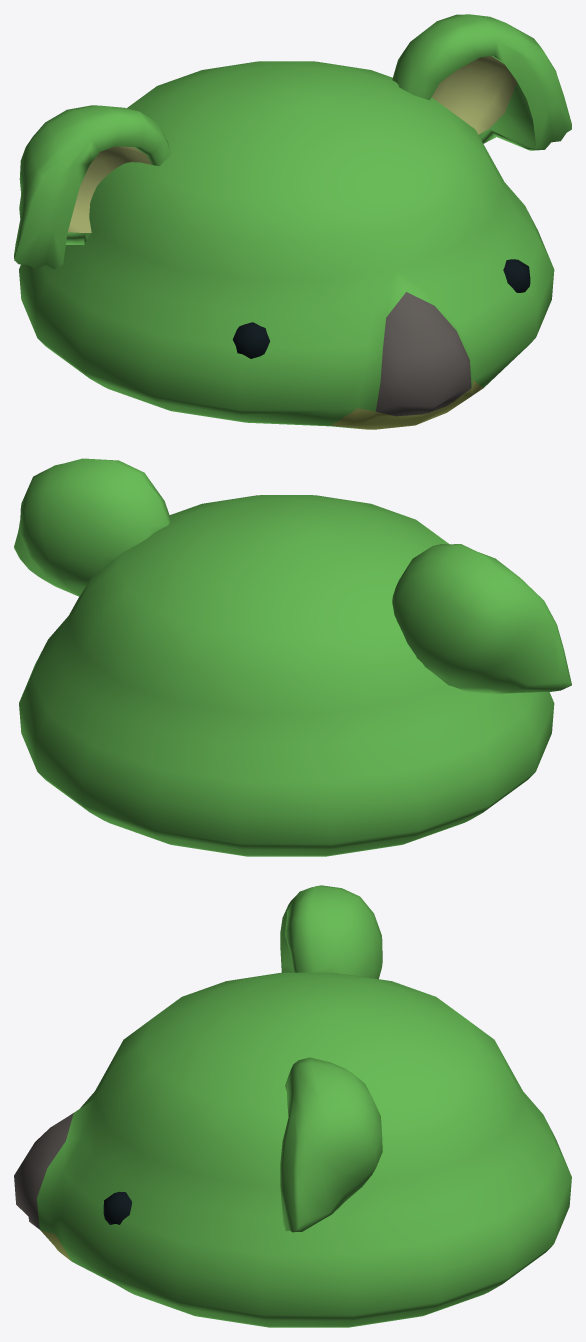
File: Hat_48_02.fbx
The picture shows the model from 3 angles, top to bottom: view 1: azimuth 30°, elevation 25°; view 2: azimuth 150°, elevation 25°; view 3: azimuth 270°, elevation 25°; orthographic projection.
Parts seen in each view (by area): view 1: Hat_48_02; view 2: Hat_48_02; view 3: Hat_48_02.
Boxes of the visible parts, x1,y1,x2,y2 form: Hat_48_02: [14, 14, 571, 429]; Hat_48_02: [14, 458, 571, 856]; Hat_48_02: [14, 885, 571, 1327].
Size of the model in its own units: 51.18 by 23.22 by 45.15.
